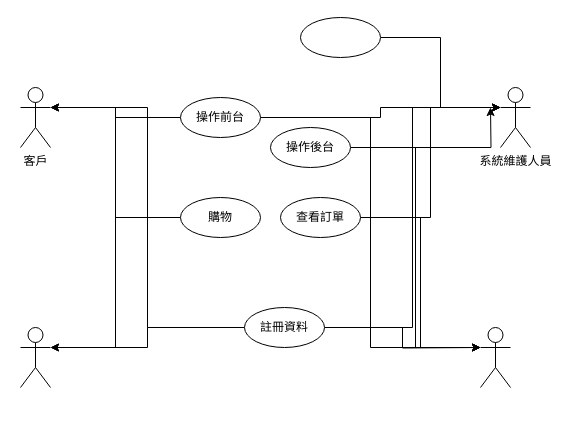
This 569x426 diagram has some shape labels left out. The shapes that lost their labels are listed below. From the top down, each one's centre as x and y in pixels, then its label:
At [340,37]: "維護系統".
At [35,357]: "瀏覽者".
At [495,357]: "公司人員".
